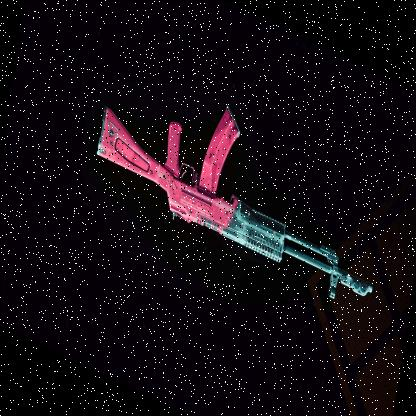rifle: (78, 47, 393, 327)
